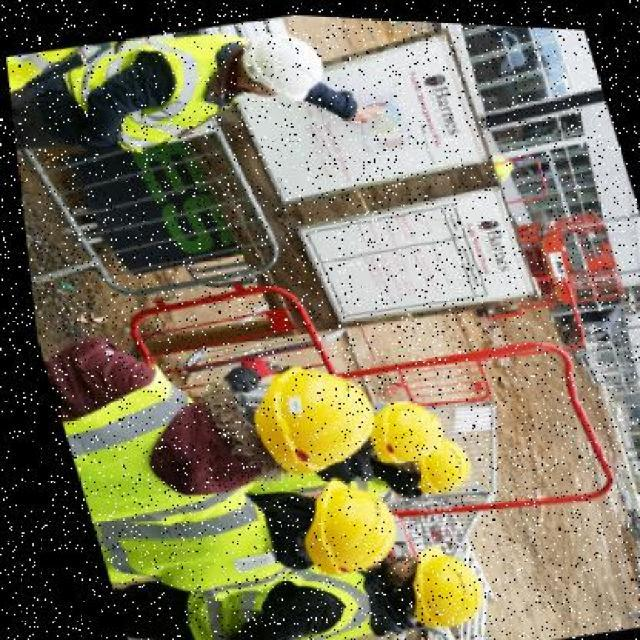helmet: (222, 356, 374, 480), (260, 471, 396, 589), (365, 533, 481, 639), (228, 15, 338, 111), (345, 388, 447, 480), (377, 431, 481, 504)
vest: (45, 12, 270, 164), (80, 479, 276, 616), (40, 359, 214, 509), (142, 540, 380, 638)
